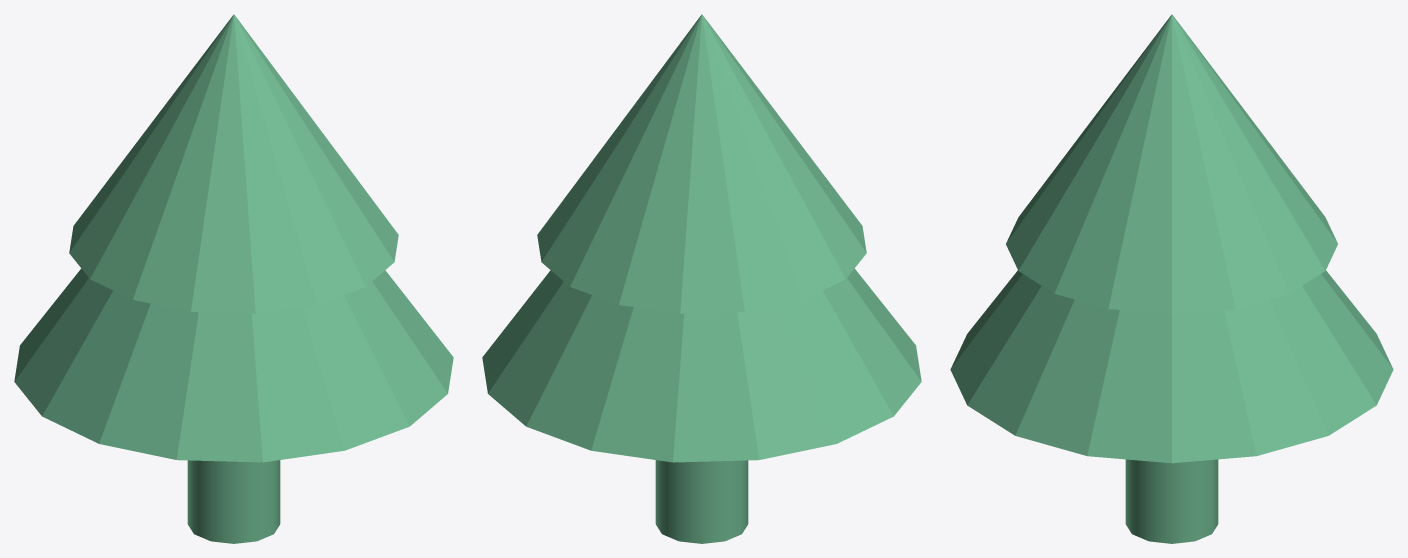
Rendered from arbol.glb.
3 renders of one model, left to right at view 1: azimuth 30°, elevation 25°; view 2: azimuth 150°, elevation 25°; view 3: azimuth 270°, elevation 25°, orthographic.
Size of the model in its own units: 0.96 by 1.22 by 0.96.
